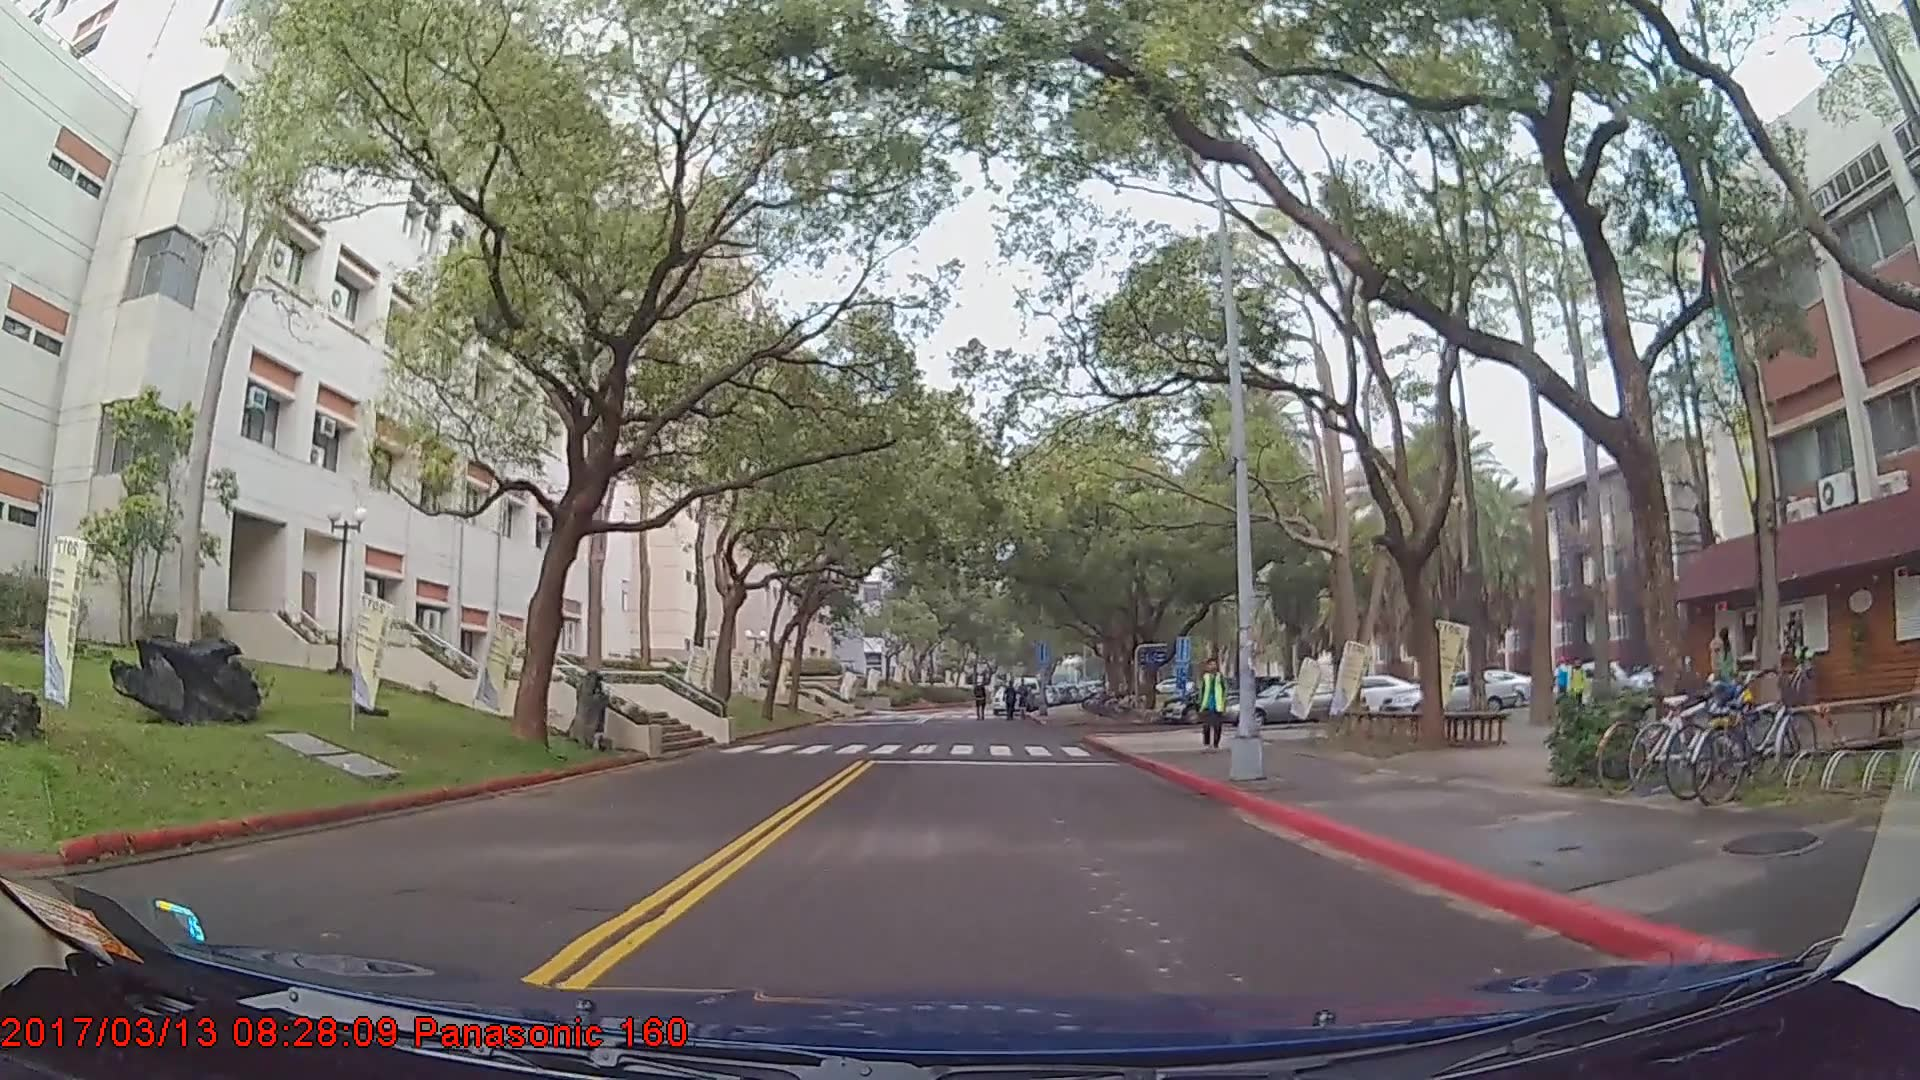pedestrian: (1193, 653, 1229, 752), (1566, 659, 1590, 719), (1001, 680, 1021, 724)
vehicle: (1226, 678, 1369, 730), (1378, 669, 1515, 721)
